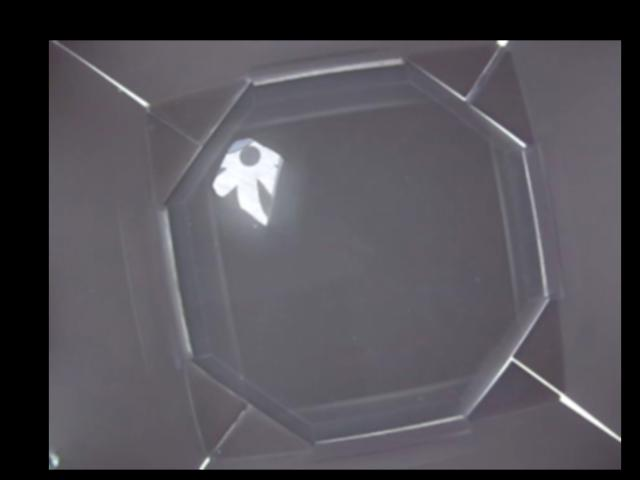China: (214, 139, 281, 225)
